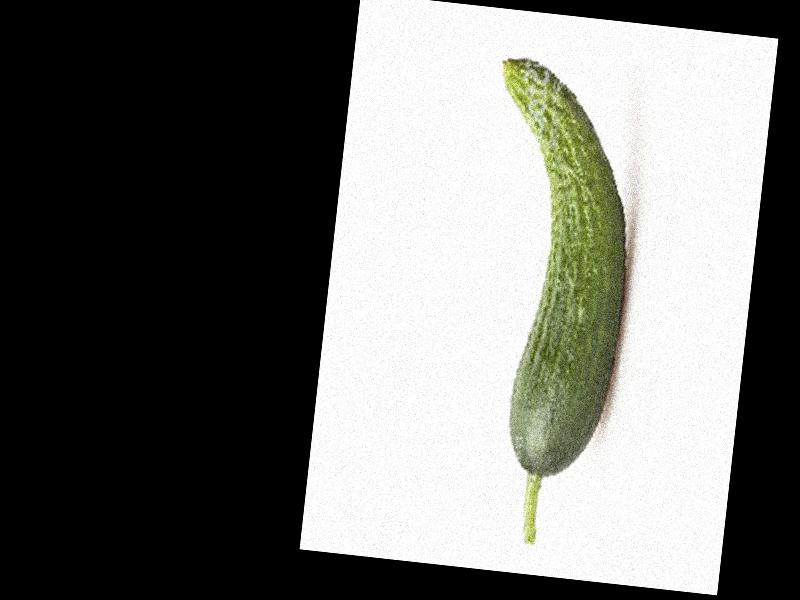Cucumber: (452, 56, 648, 552)
